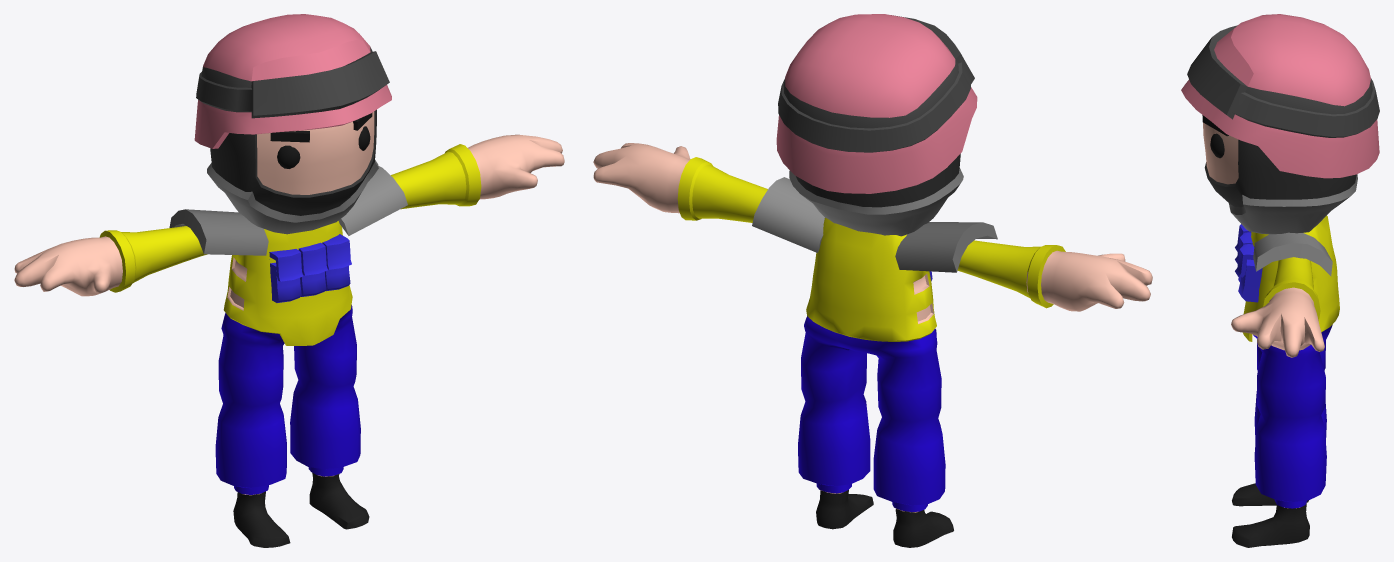
File: Soldier.fbx
3 renders of one model, left to right at view 1: azimuth 30°, elevation 25°; view 2: azimuth 150°, elevation 25°; view 3: azimuth 270°, elevation 25°, orthographic. The views are drawn at different scales.
Parts seen in each view (by area): view 1: Body, Head, ShoulderPad.L, ShoulderPad.R; view 2: Body, Head, ShoulderPad.L, ShoulderPad.R; view 3: Body, Head, ShoulderPad.R.
Part boxes in pixels (bbox=[...]): Body: bbox=[14, 109, 564, 547]; Head: bbox=[194, 14, 391, 168]; ShoulderPad.L: bbox=[169, 209, 268, 255]; ShoulderPad.R: bbox=[338, 166, 407, 235]; Body: bbox=[593, 143, 1152, 547]; Head: bbox=[776, 14, 977, 193]; ShoulderPad.L: bbox=[895, 222, 997, 272]; ShoulderPad.R: bbox=[752, 177, 824, 252]; Body: bbox=[1203, 122, 1357, 547]; Head: bbox=[1181, 14, 1379, 178]; ShoulderPad.R: bbox=[1253, 232, 1332, 276].
Bounding box in the file's own units: 2.73 × 2.36 × 0.8639.
